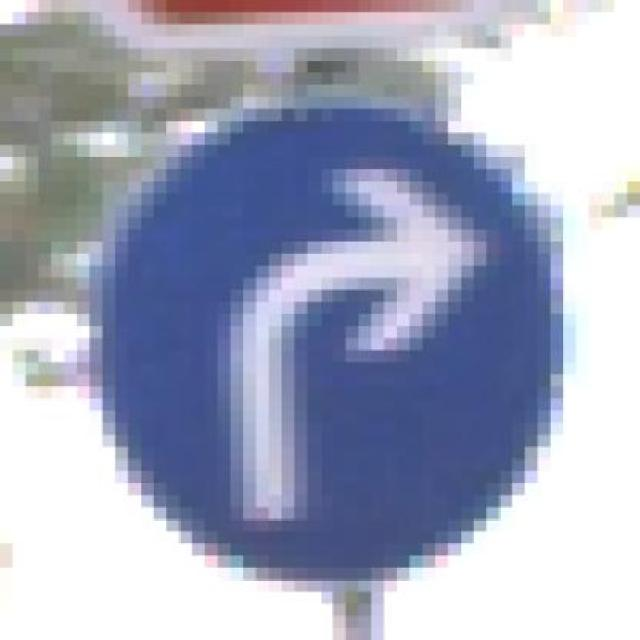Turn right ahead: (52, 72, 576, 592)
